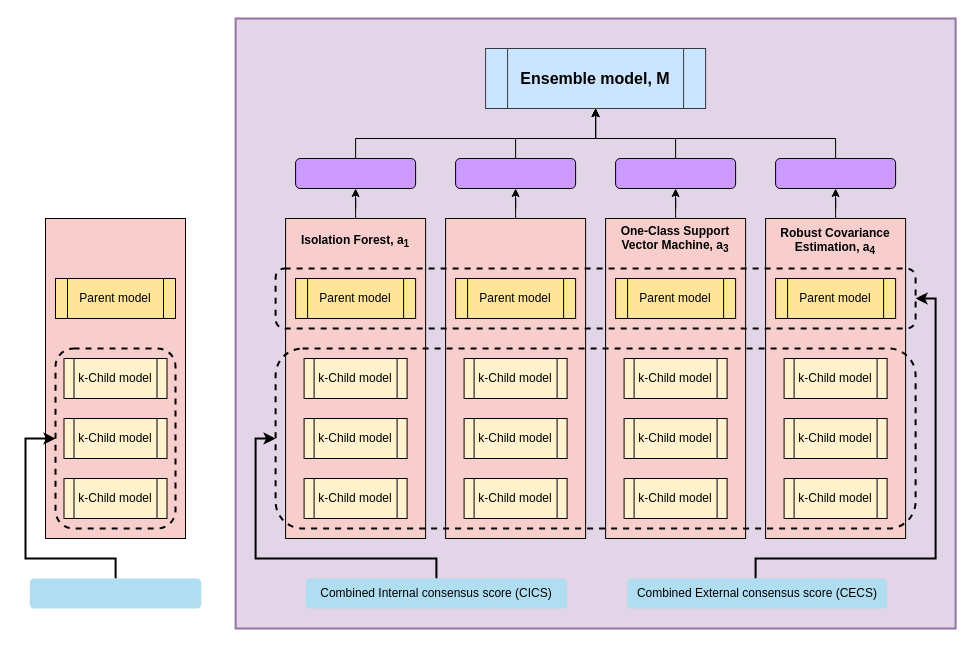
Some shapes in this 974 by 646 pixel diagram are drawn without their labels. The shapes that lost their labels are listed below. From the top down, each one's box as (x1, y1, x2, y2) in pixels, then its label:
(295, 158, 416, 188): Weighting, w 1
(455, 158, 576, 188): Weighting, w 2
(615, 158, 736, 188): Weighting, w 3
(775, 158, 896, 188): Weighting, w 4
(44, 218, 186, 538): Subsidiary model, a m
(445, 218, 586, 538): Local Outlier Factor, a 2
(29, 578, 201, 608): Internal consensus score (ICS)
